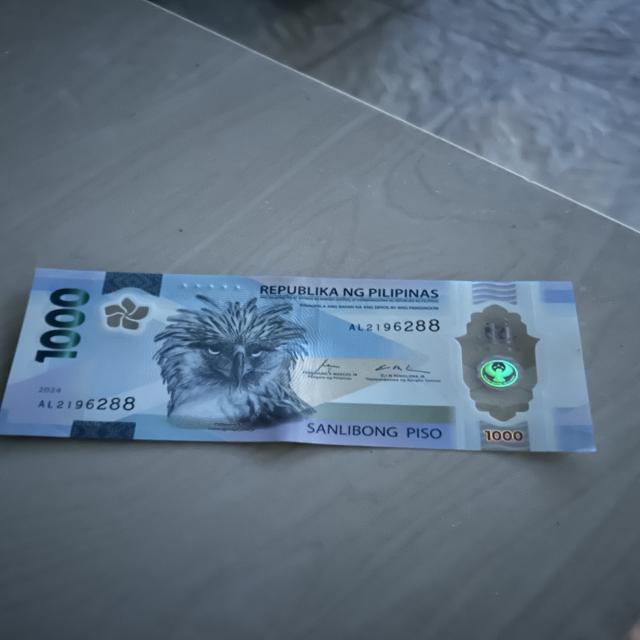clear_window: (449, 297, 548, 426)
eagle: (159, 296, 297, 431)
sampaguita: (101, 296, 149, 330)
